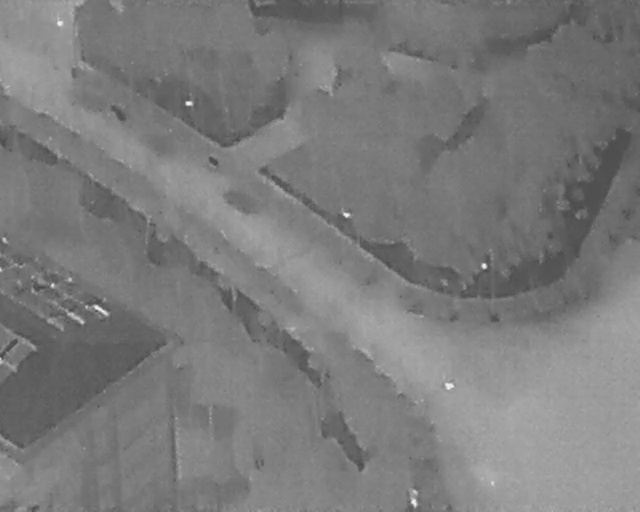Person: (408, 485, 419, 510)
